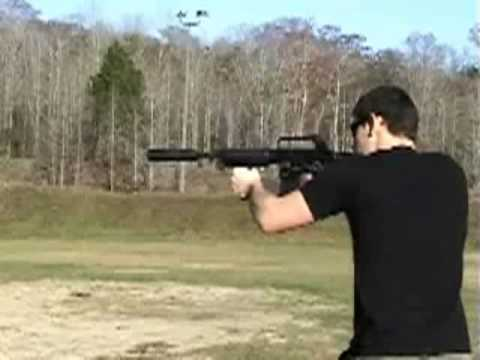Gun: (139, 142, 339, 178)
